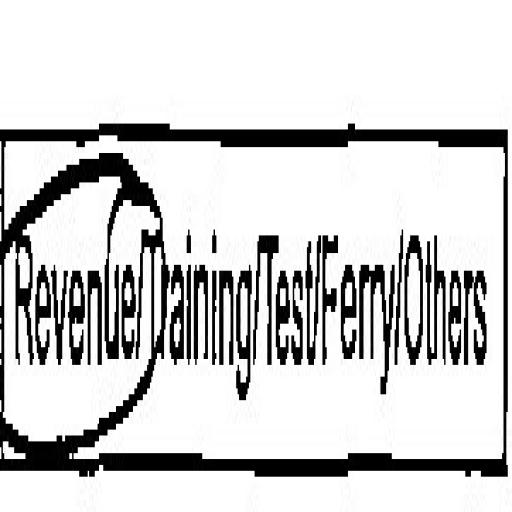check: (0, 31, 140, 512)
